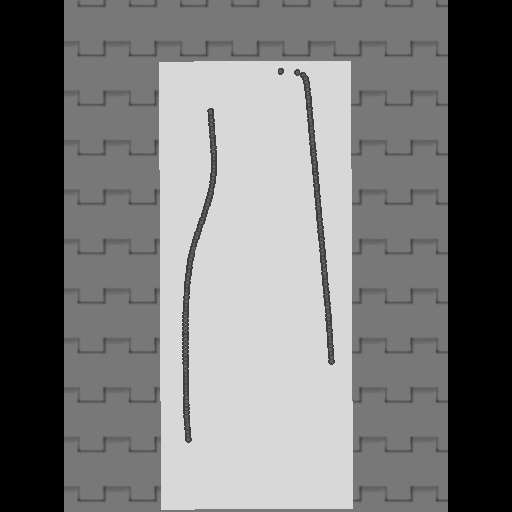Defect: (185, 363, 341, 475)
